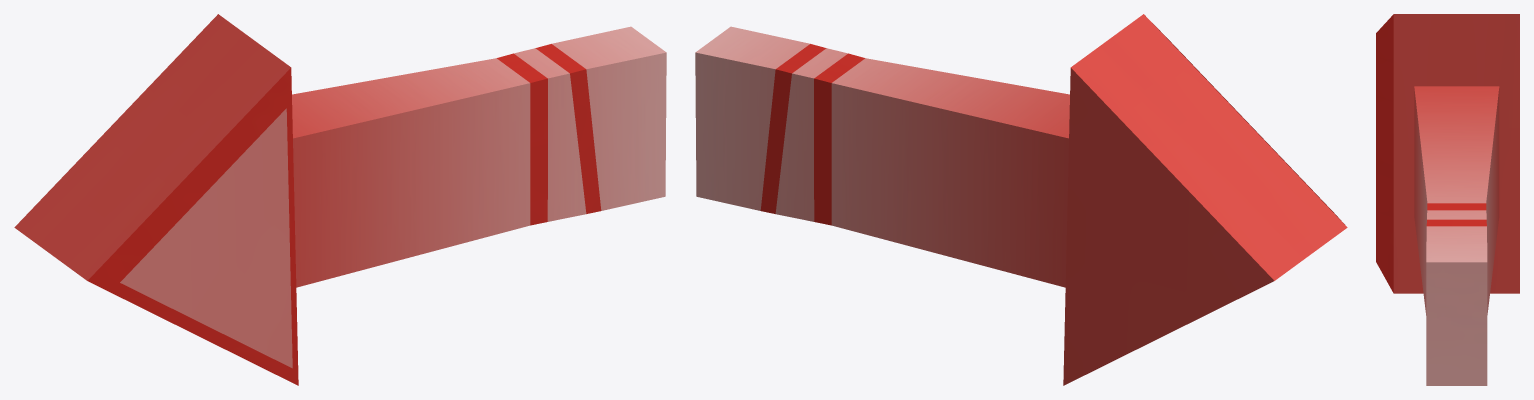
Rendered from SM_Arrow_01.fbx.
3 views of the same model, side by side, from view 1: azimuth 30°, elevation 25°; view 2: azimuth 150°, elevation 25°; view 3: azimuth 270°, elevation 25° (orthographic). The views are drawn at different scales.
Visible parts, largest first — view 1: SM_Arrow_01; view 2: SM_Arrow_01; view 3: SM_Arrow_01.
Boxes of the visible parts, x1,y1,x2,y2 form: SM_Arrow_01: (14, 14, 666, 385); SM_Arrow_01: (695, 14, 1347, 385); SM_Arrow_01: (1376, 14, 1519, 385).
Bounding box in the file's own units: 7.75 × 3.97 × 1.87.
